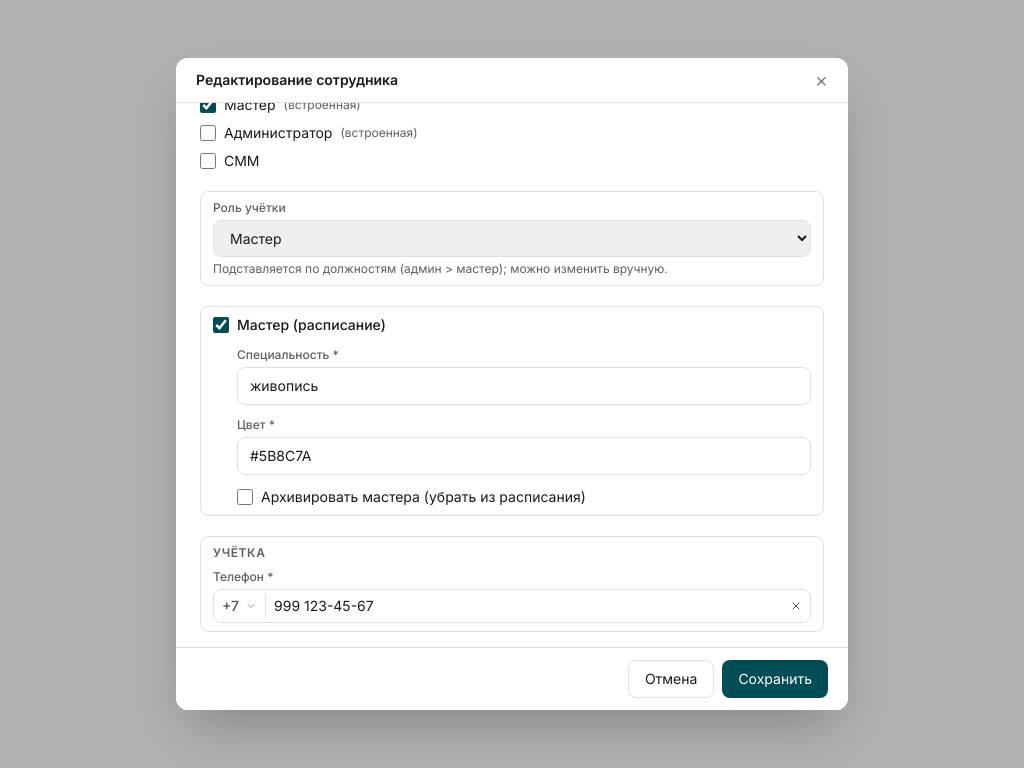
Test case: StaffModal phone fields (GH #414) › edit: a CLEARED account phone blocks with the required error (staff phone is mandatory)
The image size is (1024, 768).
(page scrolled)
Click the button named "clear".
click(796, 606)  # box [782,590,810,622]
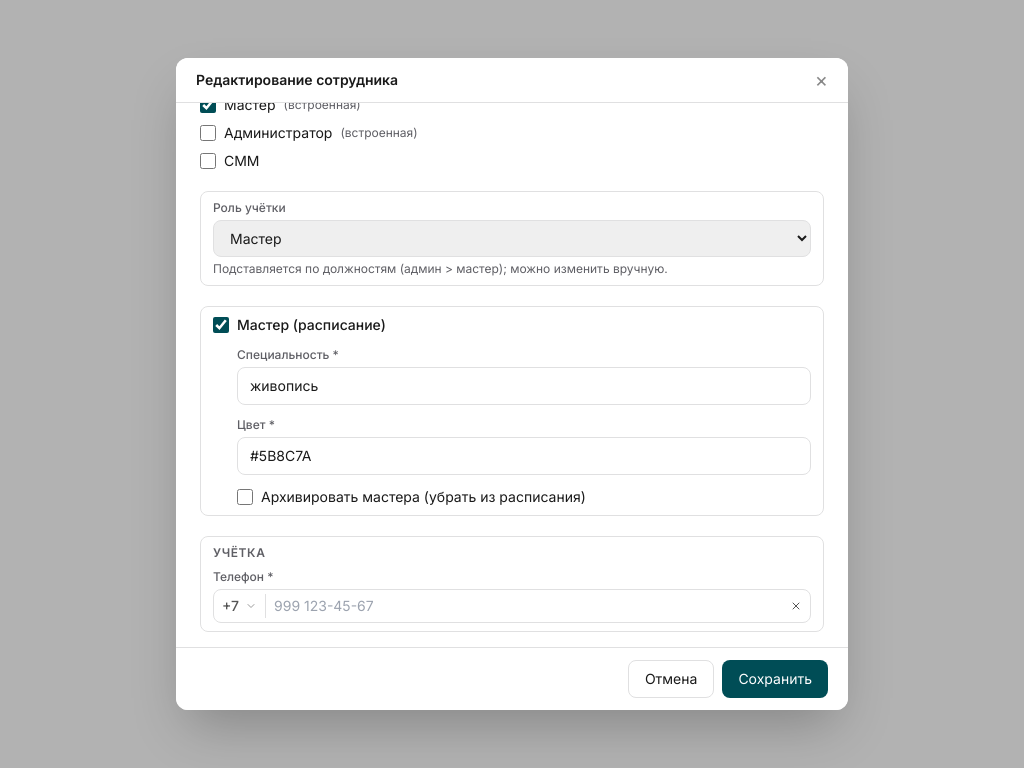
Click the button with test id "staff-modal-save-btn".
click(775, 679)  # box [722,660,828,698]
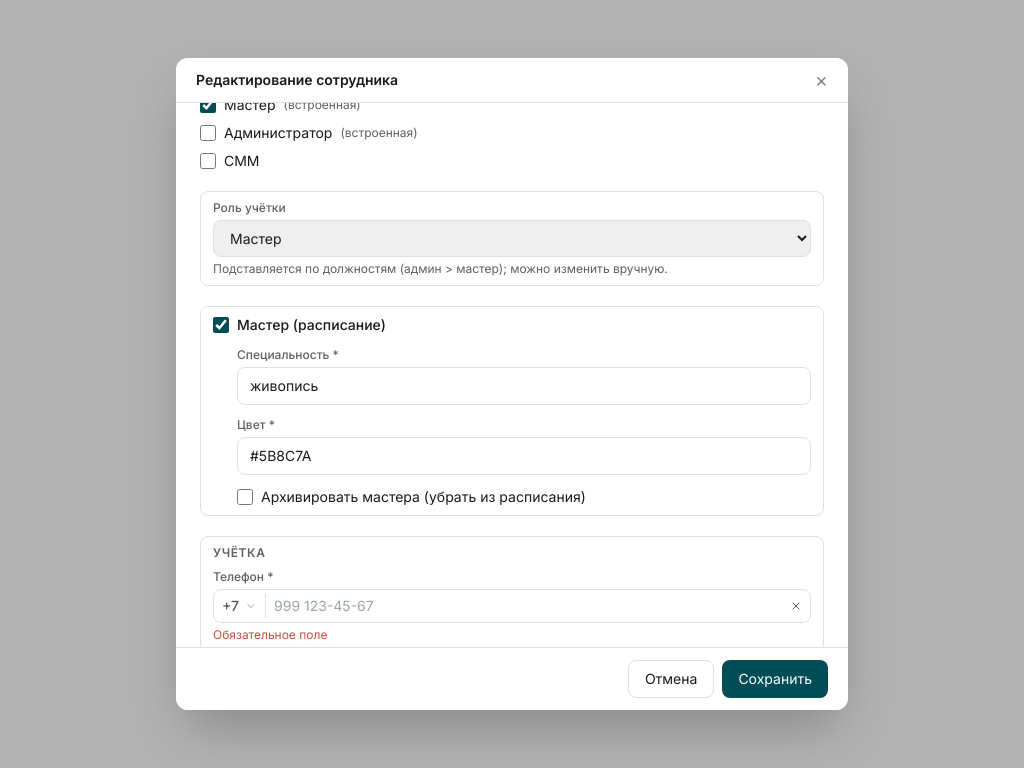
Expected: the text "Обязательное поле" is shown, [213,627,327,642]
